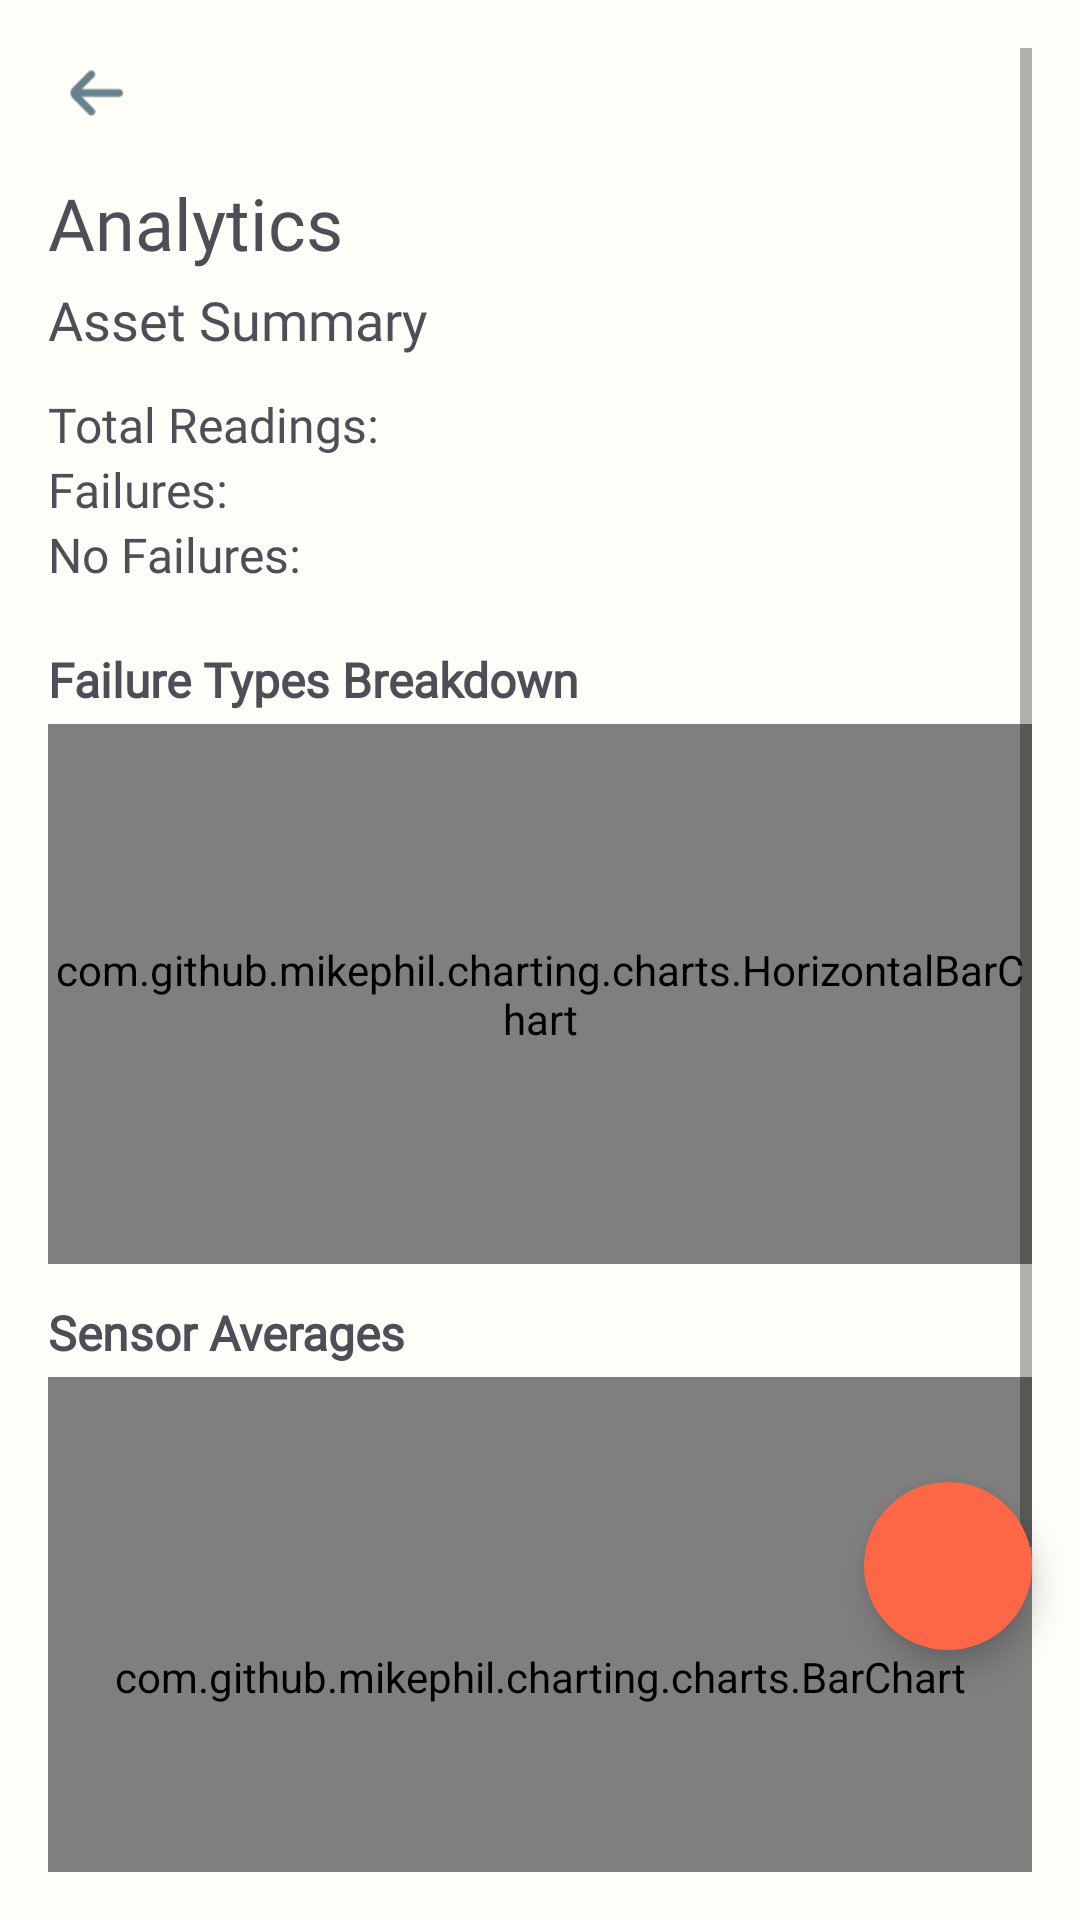

Named icons in this screenshot (1080 × 1920) and their bounding boxes, rect(x1, y1, x2, y2):
Back: rect(70, 70, 124, 116)
